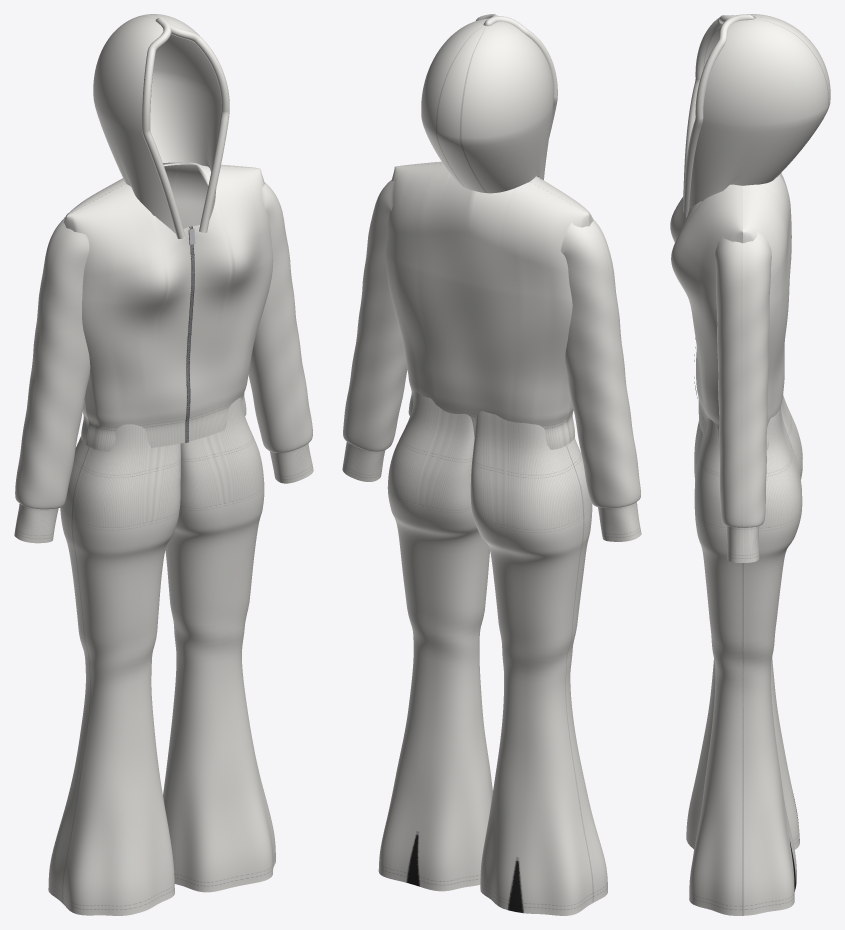
Rendered from ensemble-capuche-femme.glb.
3 renders of one model, left to right at view 1: azimuth 30°, elevation 25°; view 2: azimuth 150°, elevation 25°; view 3: azimuth 270°, elevation 25°, orthographic.
Parts seen in each view (by area): view 1: Jambe_gauche, Devant, Jambe_droite, Capuche, Manche_gauche, Manche_droite, Bord_capuche, Dos, Zip; view 2: Jambe_gauche, Dos, Jambe_droite, Capuche, Manche_gauche, Manche_droite, Bord_capuche, Devant; view 3: Jambe_droite, Capuche, Manche_droite, Devant, Dos, Jambe_gauche, Bord_capuche.
Boxes of the visible parts, x1,y1,x2,y2 form: Jambe_gauche: [48, 424, 180, 915]; Devant: [66, 165, 273, 451]; Jambe_droite: [163, 397, 275, 892]; Capuche: [93, 14, 221, 233]; Manche_gauche: [14, 213, 90, 543]; Manche_droite: [248, 182, 313, 483]; Bord_capuche: [142, 17, 229, 238]; Dos: [63, 162, 258, 444]; Zip: [184, 226, 195, 443]; Jambe_gauche: [470, 411, 607, 915]; Dos: [385, 164, 589, 449]; Jambe_droite: [378, 391, 492, 891]; Capuche: [421, 18, 553, 193]; Manche_gauche: [560, 219, 641, 541]; Manche_droite: [342, 179, 407, 481]; Bord_capuche: [476, 14, 557, 176]; Devant: [395, 161, 593, 442]; Jambe_droite: [689, 408, 802, 915]; Capuche: [688, 14, 830, 211]; Manche_droite: [715, 231, 771, 562]; Devant: [670, 184, 742, 436]; Dos: [743, 173, 791, 449]; Jambe_gauche: [686, 394, 802, 849]; Bord_capuche: [683, 14, 755, 214].
Bounding box in the file's own units: 0.6377 × 1.78 × 0.3048.
8 materials, 7 textured.
